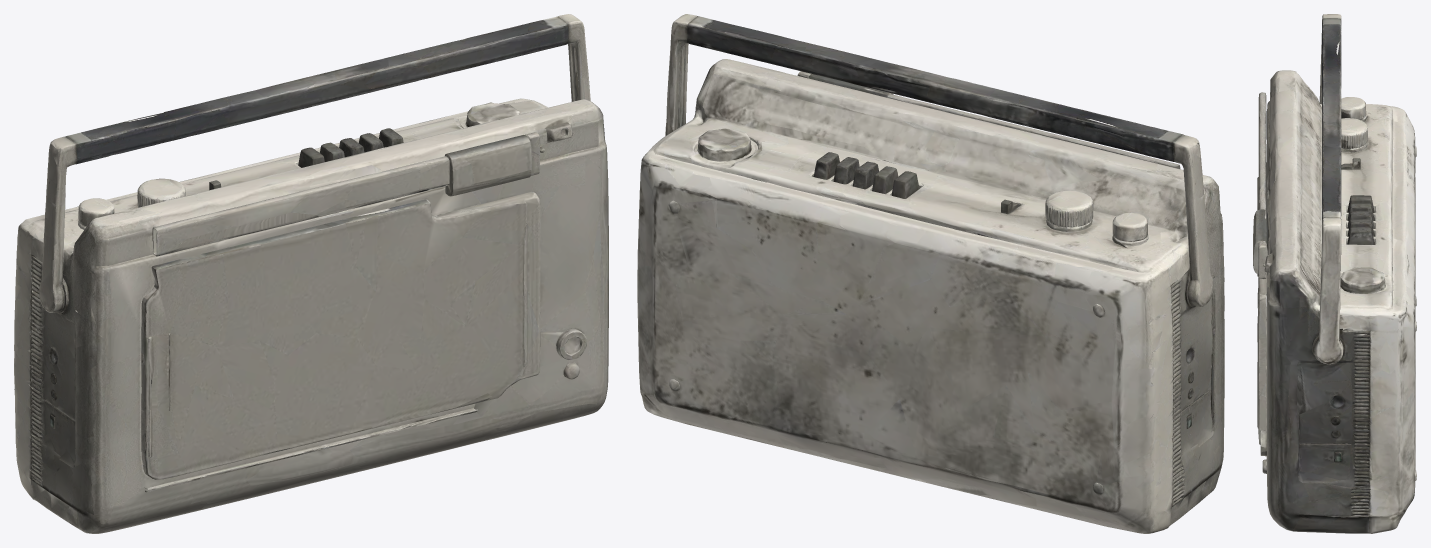
Rendered from sony-04.glb.
The picture shows the model from 3 angles, left to right: view 1: azimuth 30°, elevation 25°; view 2: azimuth 150°, elevation 25°; view 3: azimuth 270°, elevation 25°; orthographic projection. The views are drawn at different scales.
Parts seen in each view (by area): view 1: mesh_node; view 2: mesh_node; view 3: mesh_node.
Part boxes in pixels (x1,y1,x2,y2): mesh_node: [14, 14, 608, 533]; mesh_node: [637, 14, 1224, 533]; mesh_node: [1253, 14, 1416, 533].
Size of the model in its own units: 1.9 by 1.26 by 0.5977.
Materials: 1 (1 with a texture image).
